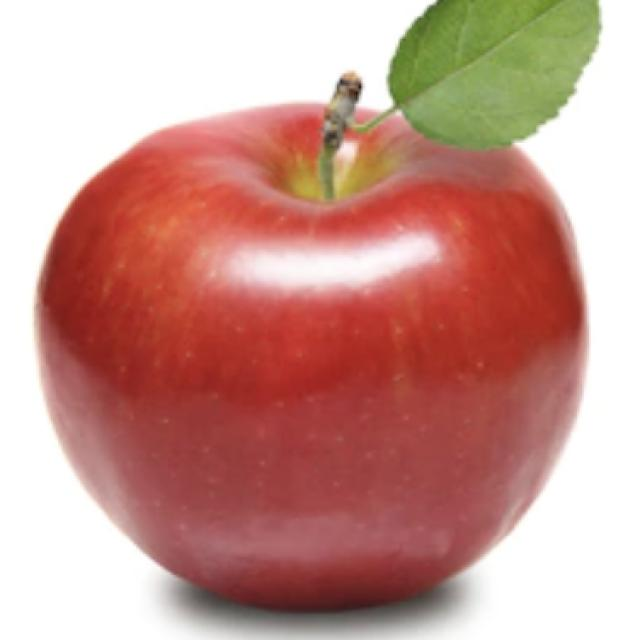apple: (36, 106, 587, 609)
